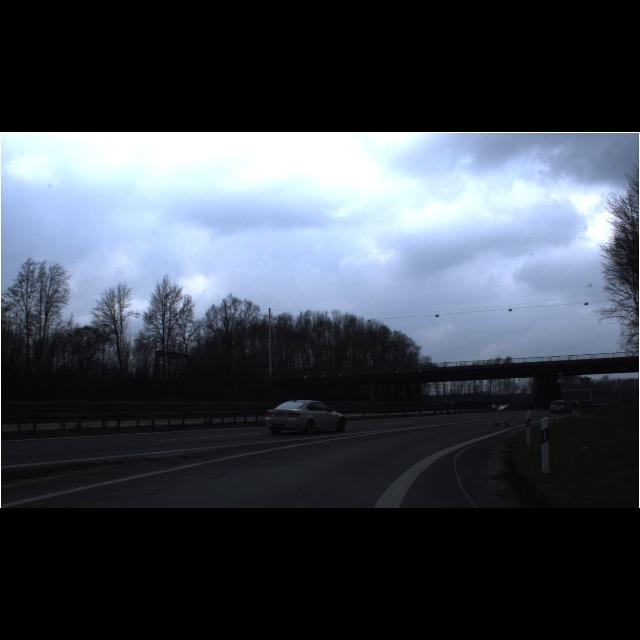other: (578, 378, 590, 388)
